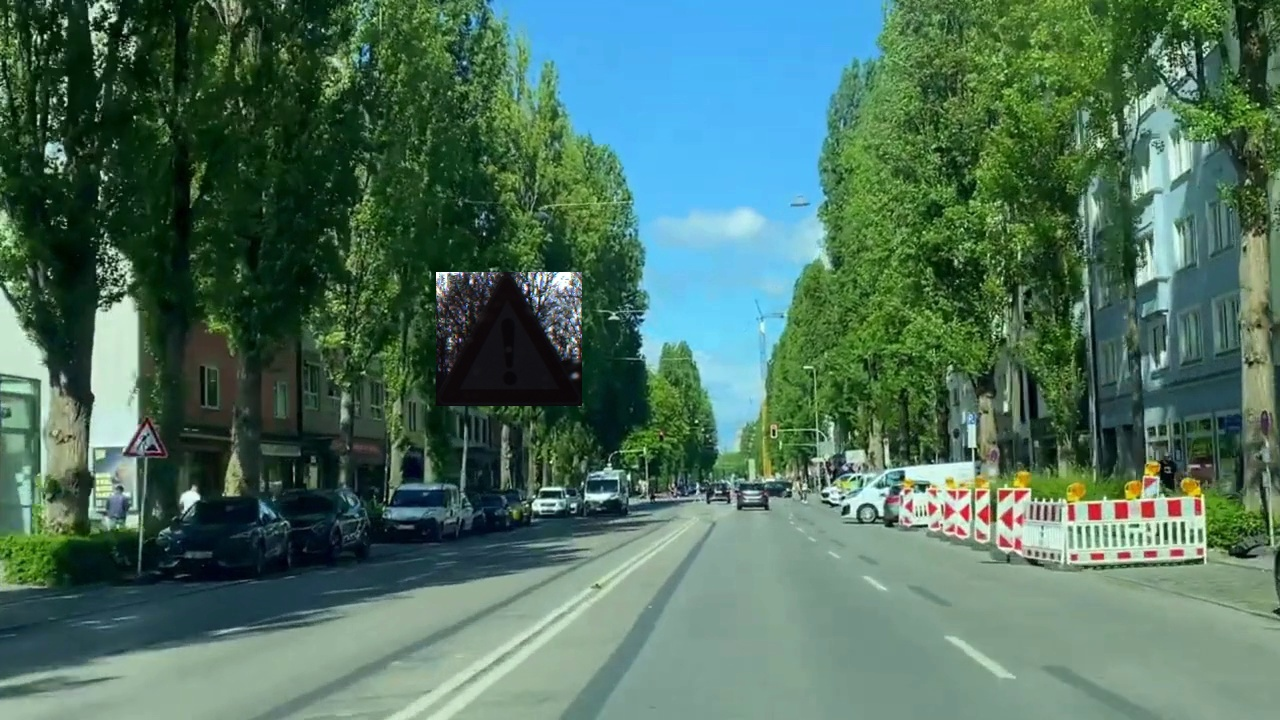Caution: (436, 272, 582, 406)
